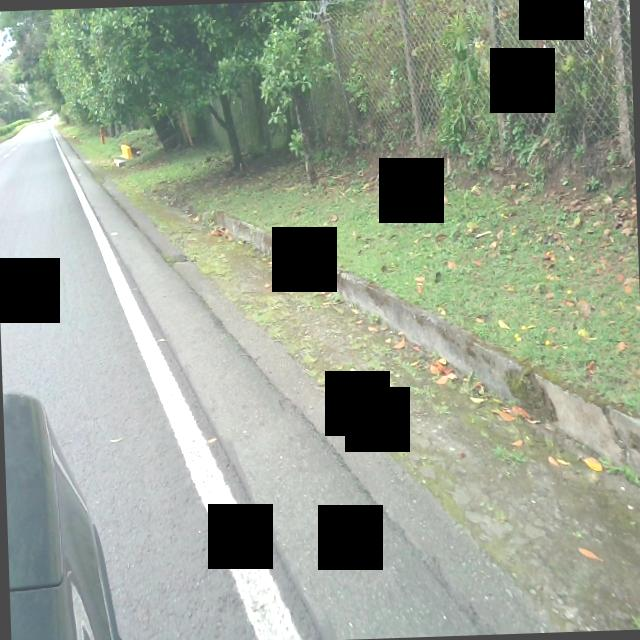DITCH: (0, 76, 640, 640), (51, 97, 640, 640)
